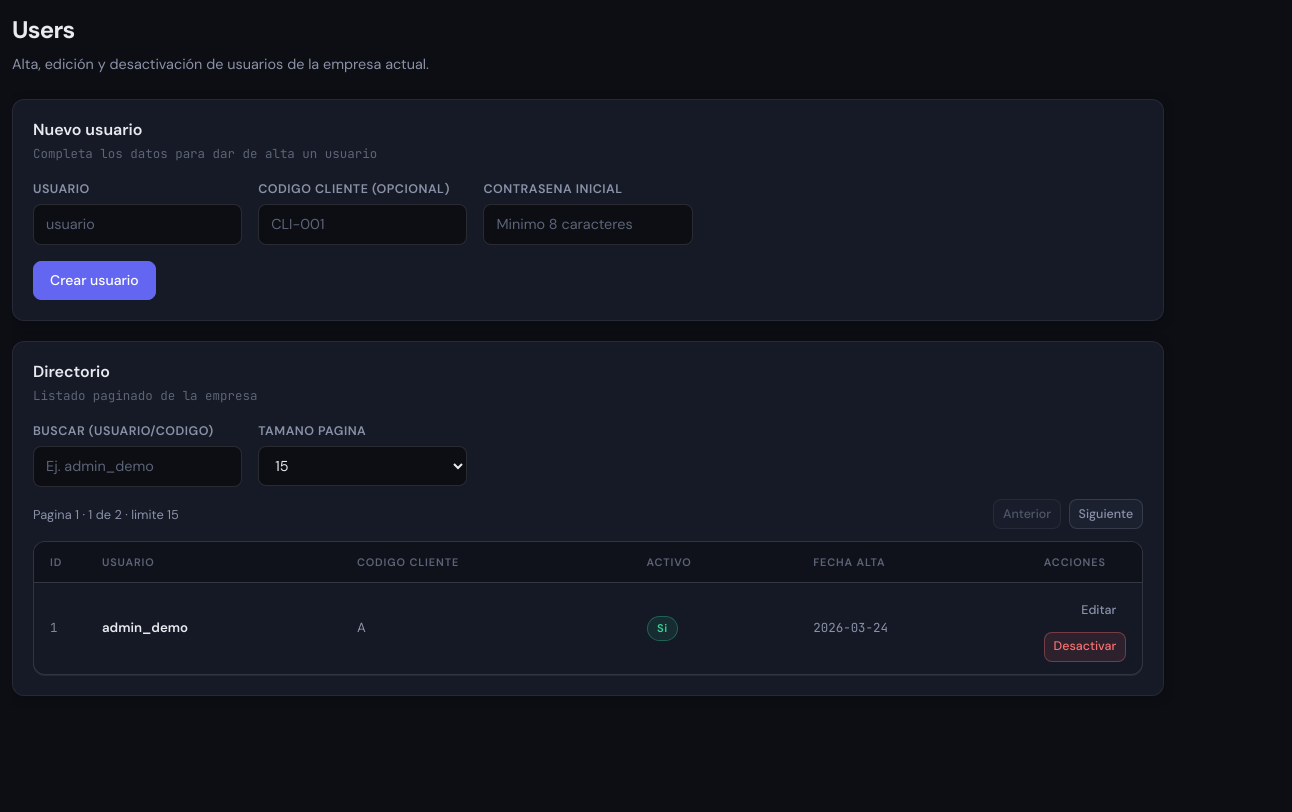
UsersPage data states › cambia pagina con botones anterior/siguiente
The image size is (1292, 812).
Expected: the text "admin_demo" is shown, [102,619,188,636]
Click the button "Siguiente".
click(1106, 514)  # box [1069,499,1143,530]
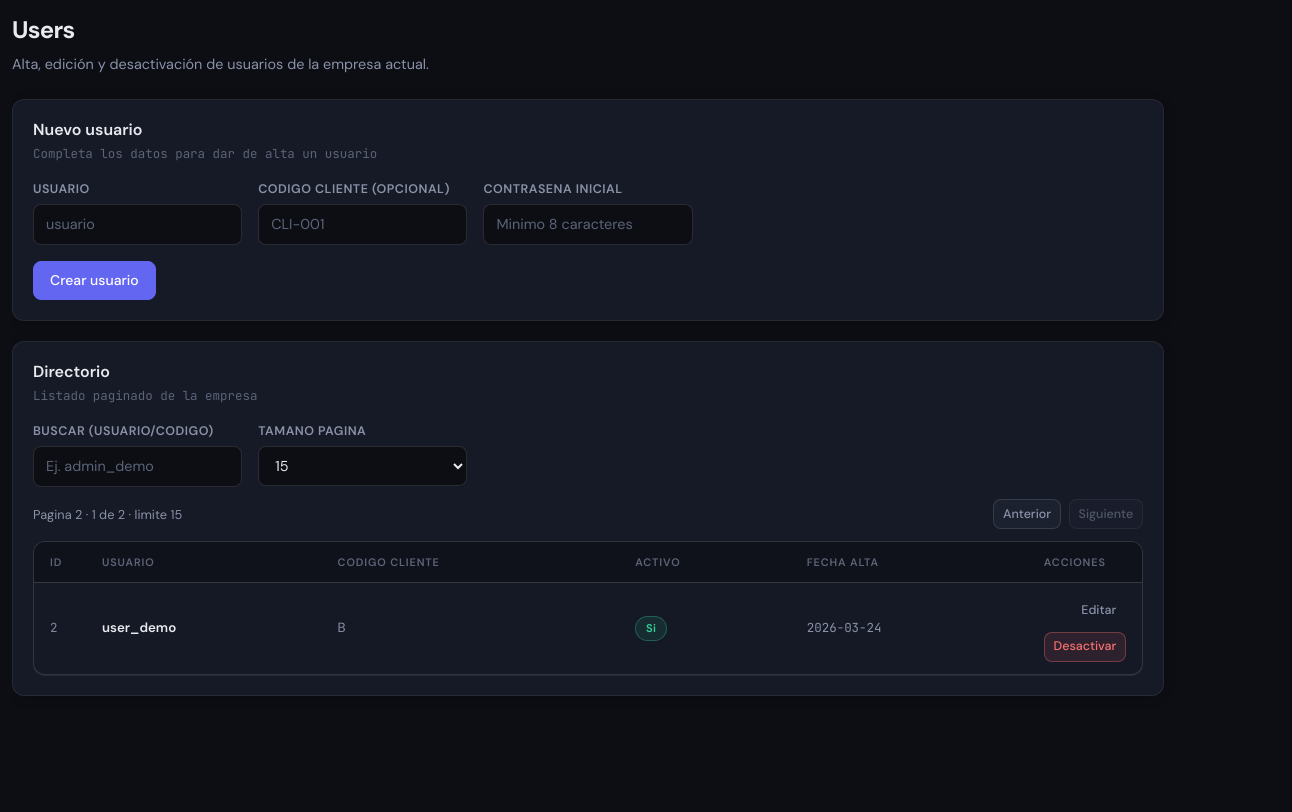
Now the text "user_demo" is shown, box [102,619,176,636]
